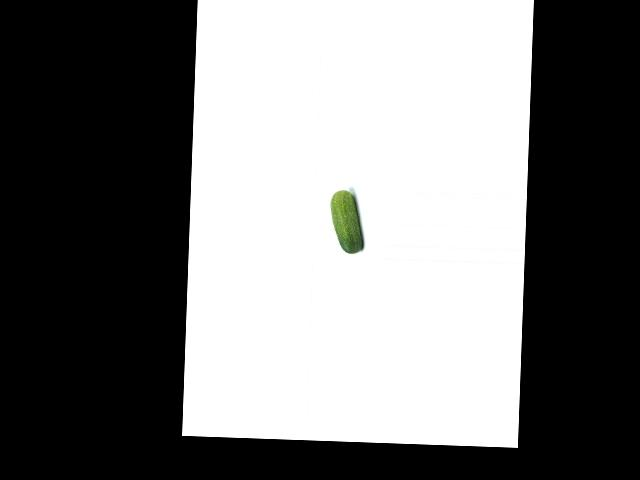cucumber: (329, 190, 364, 254)
